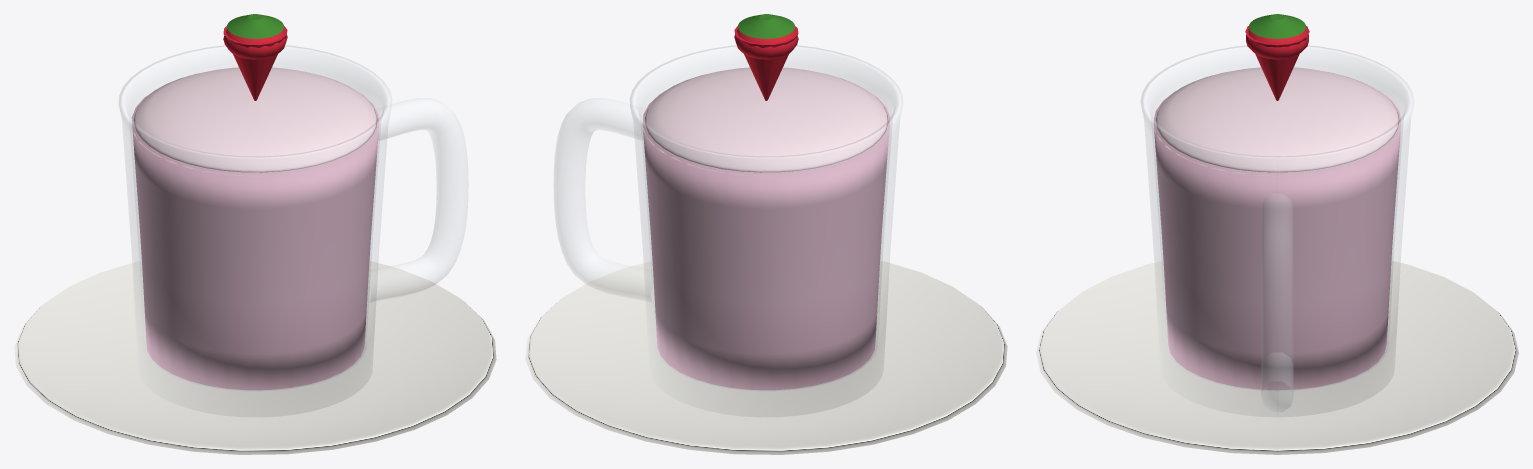
File: alba-strawberry-cream-latte.glb
3 renders of one model, left to right at view 1: azimuth 30°, elevation 25°; view 2: azimuth 150°, elevation 25°; view 3: azimuth 270°, elevation 25°, orthographic.
Size of the model in its own units: 0.1485 by 0.1246 by 0.148.
